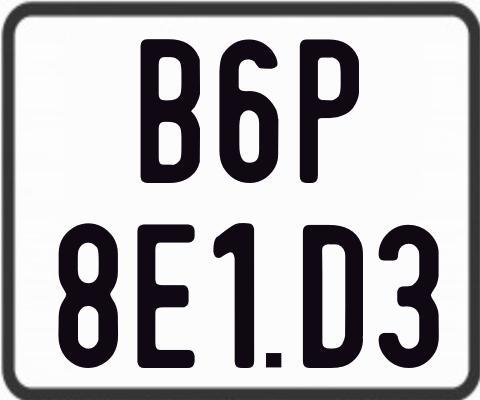1: (212, 220, 253, 370)
3: (376, 225, 439, 374)
6: (216, 36, 279, 181)
8: (58, 223, 124, 372)
B: (141, 37, 201, 184)
D: (302, 222, 363, 367)
E: (135, 221, 193, 370)
P: (300, 38, 362, 184)
